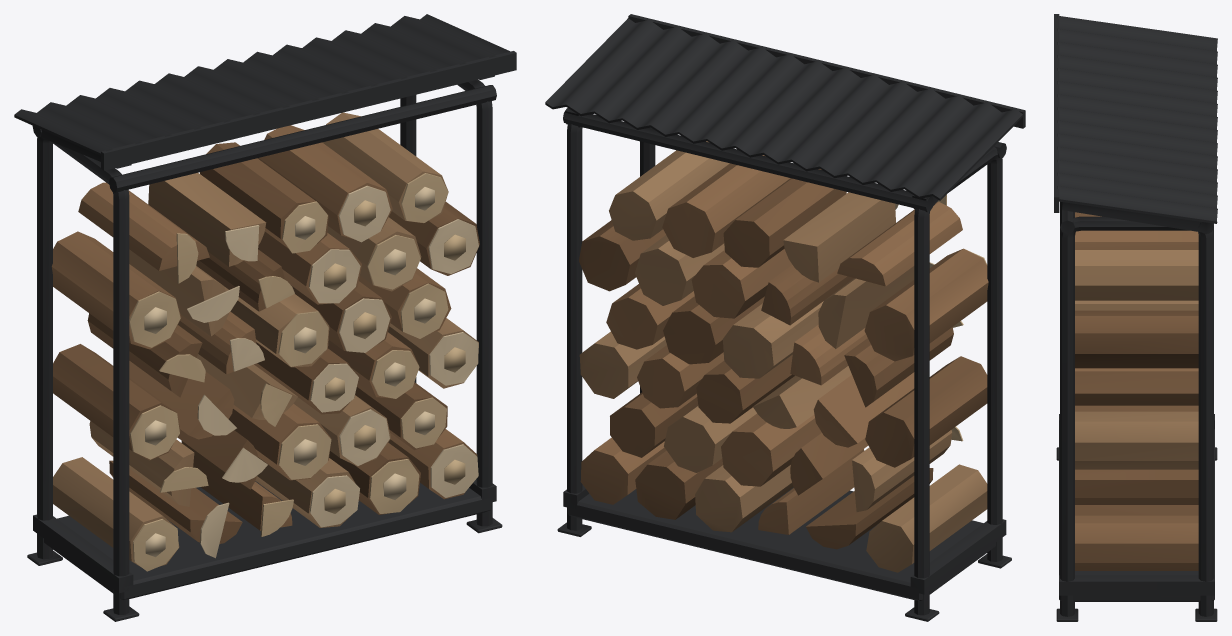
Rendered from firewoodStack.glb.
3 views of the same model, side by side, from view 1: azimuth 30°, elevation 25°; view 2: azimuth 150°, elevation 25°; view 3: azimuth 270°, elevation 25° (orthographic). The views are drawn at different scales.
Visible parts, largest first — view 1: firewoodStack; view 2: firewoodStack; view 3: firewoodStack.
Boxes of the visible parts, bbox=[...] form: firewoodStack: bbox=[14, 14, 516, 621]; firewoodStack: bbox=[545, 14, 1025, 621]; firewoodStack: bbox=[1054, 14, 1217, 621].
Bounding box in the file's own units: 1 × 1.1 × 0.3777.
